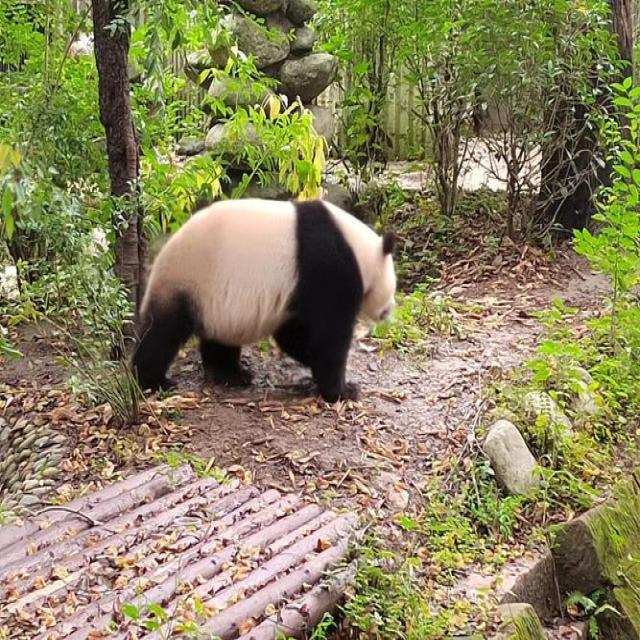panda: (112, 174, 414, 408)
